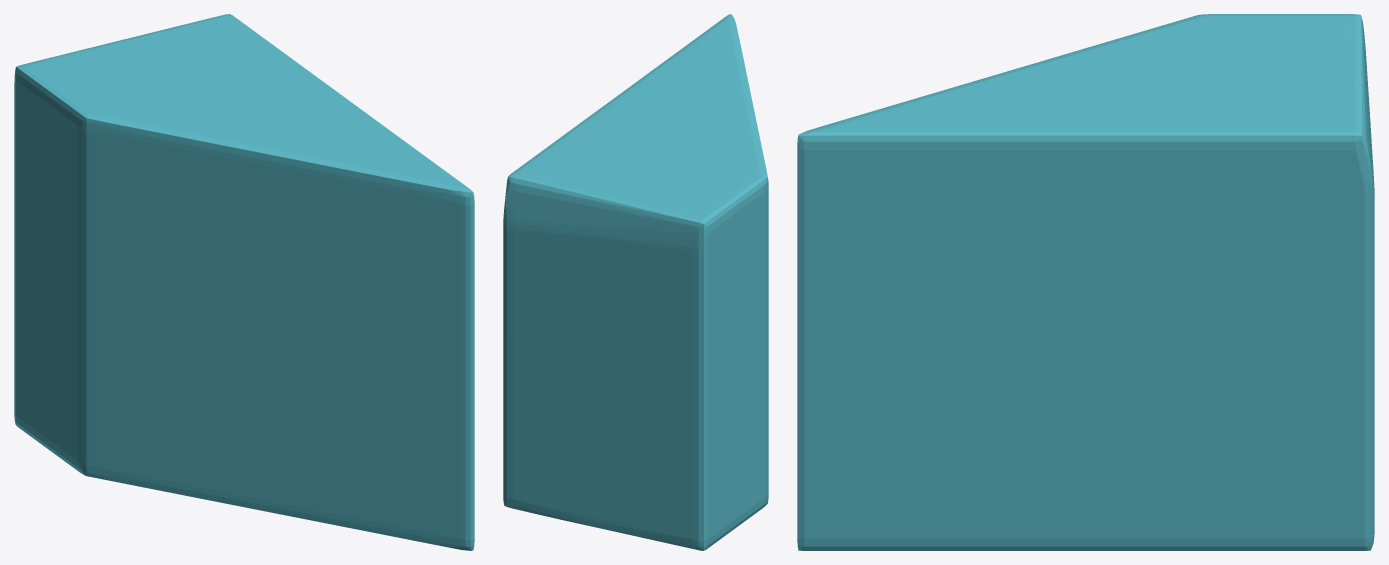
The model's file is left_elbow_link_part_2.obj.
3 renders of one model, left to right at view 1: azimuth 30°, elevation 25°; view 2: azimuth 150°, elevation 25°; view 3: azimuth 270°, elevation 25°, orthographic. The views are drawn at different scales.
Size of the model in its own units: 0.0117 by 0.0184 by 0.023.
